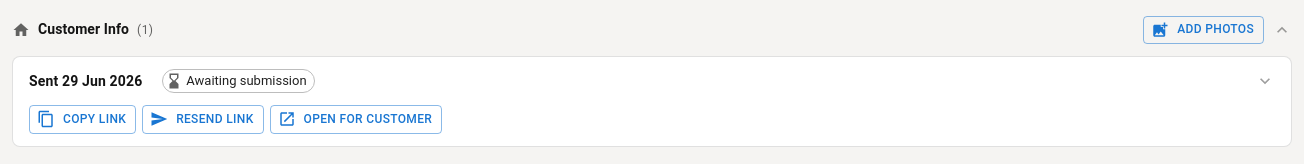
Scenario: CustomerInfoSubmissionsRail — inline Re-send button › shows "On cooldown" label when /resend returns 429
The width and height of the screenshot is (1304, 164).
Click the button with test id "resend-link-btn" at point(203, 120), box [142,105,264,134]
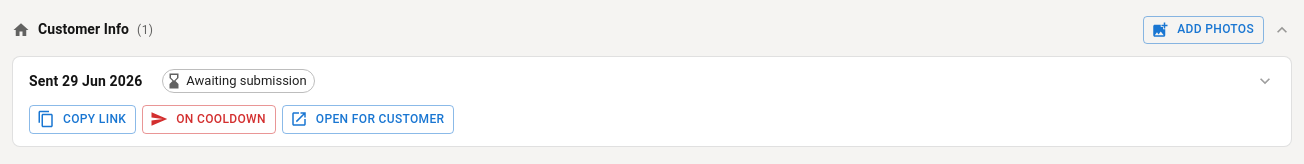
Check: the button "On cooldown" is shown, box [142,105,276,134]
